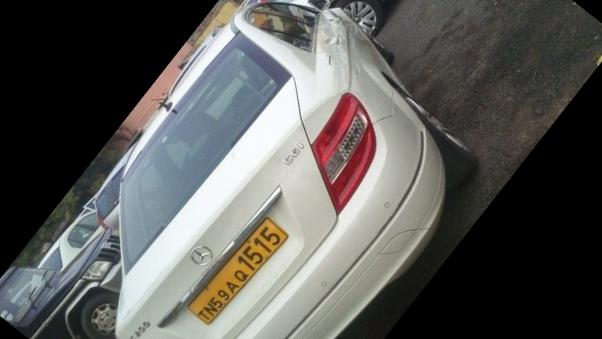plate: (168, 195, 301, 339)
